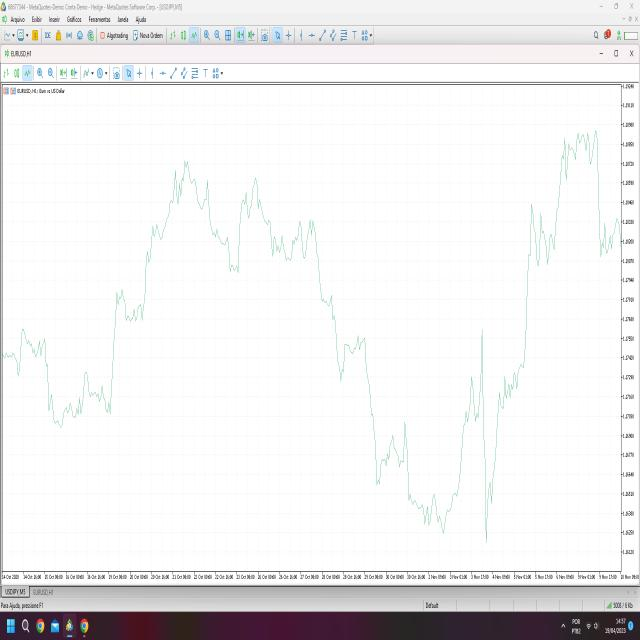bandeira_alta: (514, 192, 558, 380), (110, 269, 145, 425)
bandeira_baixa: (313, 224, 367, 391)
